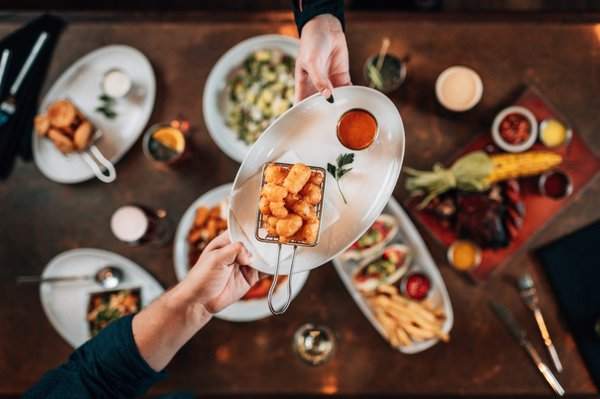sandwich: (489, 300, 564, 396)
sushi: (203, 34, 303, 164)
